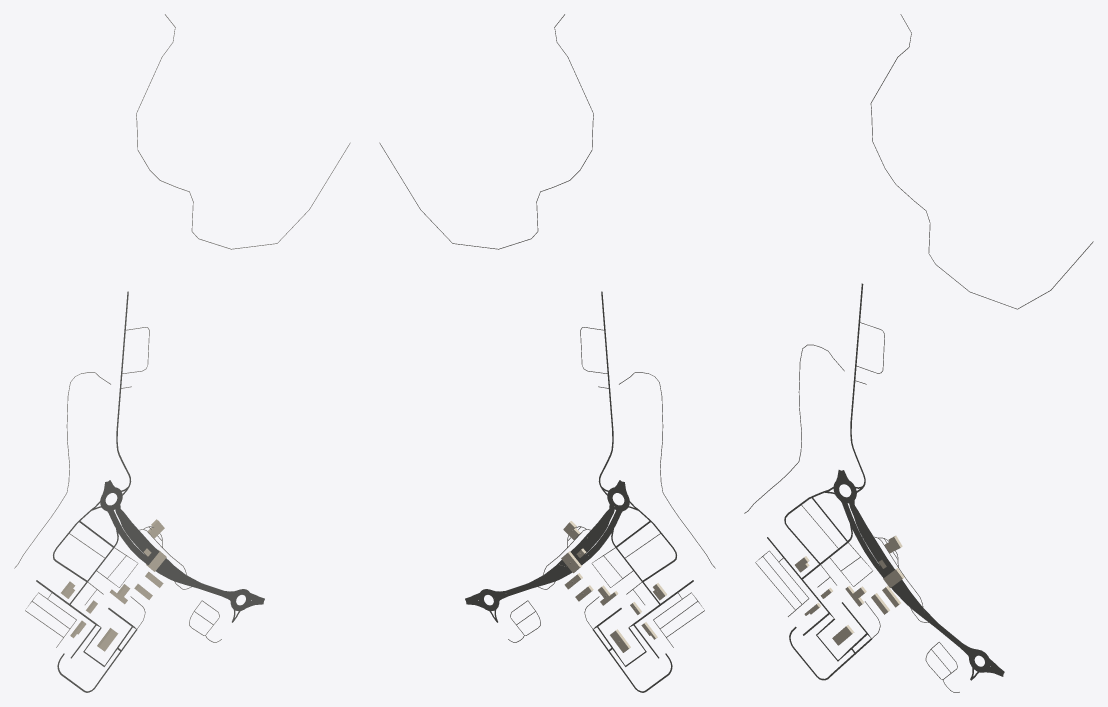
File: historic-palestine-08_21_3496_3159.glb
3 views of the same model, side by side, from view 1: azimuth 30°, elevation 25°; view 2: azimuth 150°, elevation 25°; view 3: azimuth 330°, elevation 25° (orthographic). The views are drawn at different scales.
Parts seen in each view (by area): view 1: Road 35.002, Road 35.004, Road, Road 35.007; view 2: Road 35.002, Road, Road 35.004; view 3: Road 35.002, Road 35.004, Road, Road 35.007.
Part boxes in pixels (x1=…): Road 35.002: x1=107, y1=506, x2=200, y2=588; Road 35.004: x1=116, y1=509, x2=201, y2=586; Road: x1=136, y1=14, x2=350, y2=249; Road 35.007: x1=115, y1=504, x2=188, y2=580; Road 35.002: x1=529, y1=505, x2=622, y2=588; Road: x1=379, y1=14, x2=593, y2=249; Road 35.004: x1=528, y1=510, x2=613, y2=586; Road 35.002: x1=840, y1=497, x2=938, y2=627; Road 35.004: x1=850, y1=506, x2=938, y2=623; Road: x1=870, y1=14, x2=1093, y2=309; Road 35.007: x1=849, y1=499, x2=924, y2=609.
Size of the model in its own units: 740 by 1388 by 9.01.
